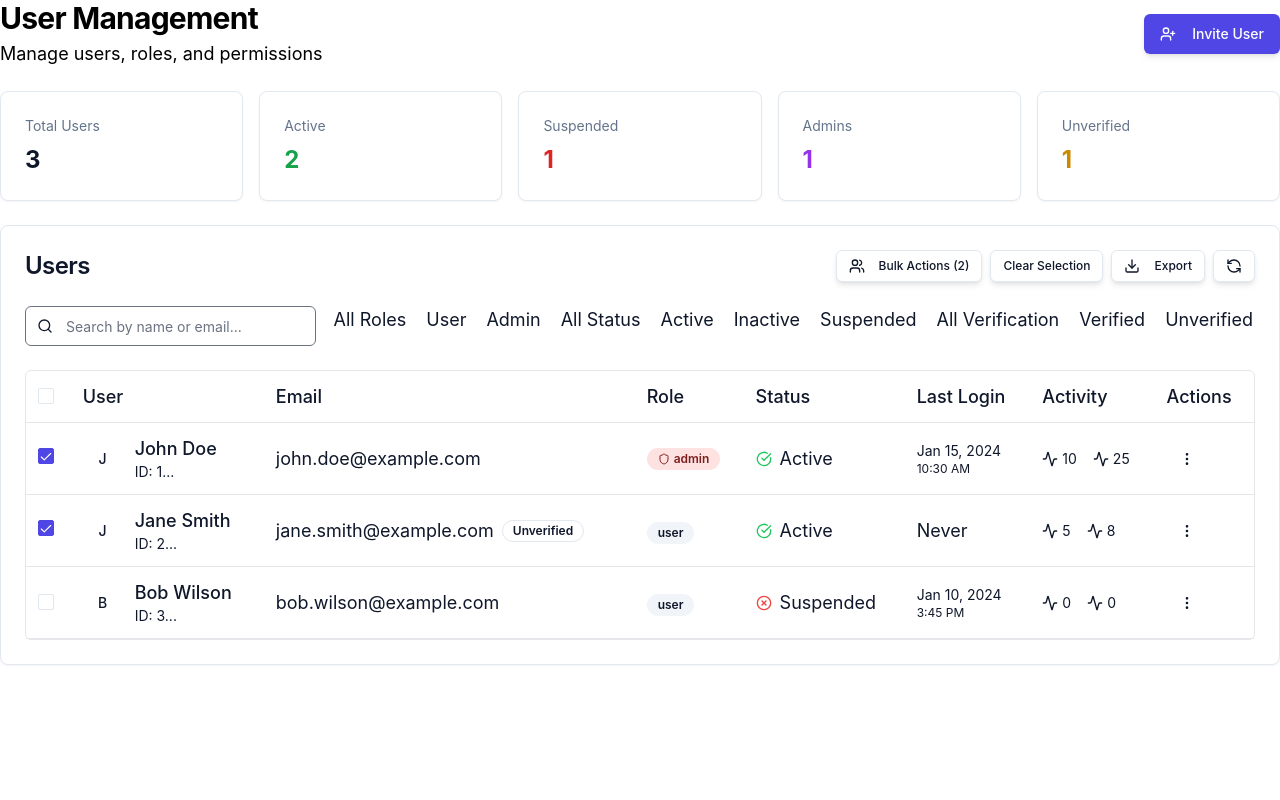
Test: UserListView › Bulk Actions › opens bulk action dialog
The width and height of the screenshot is (1280, 800).
Click the button "Bulk Actions (2)" at (909, 266), box 836,250 -> 982,282
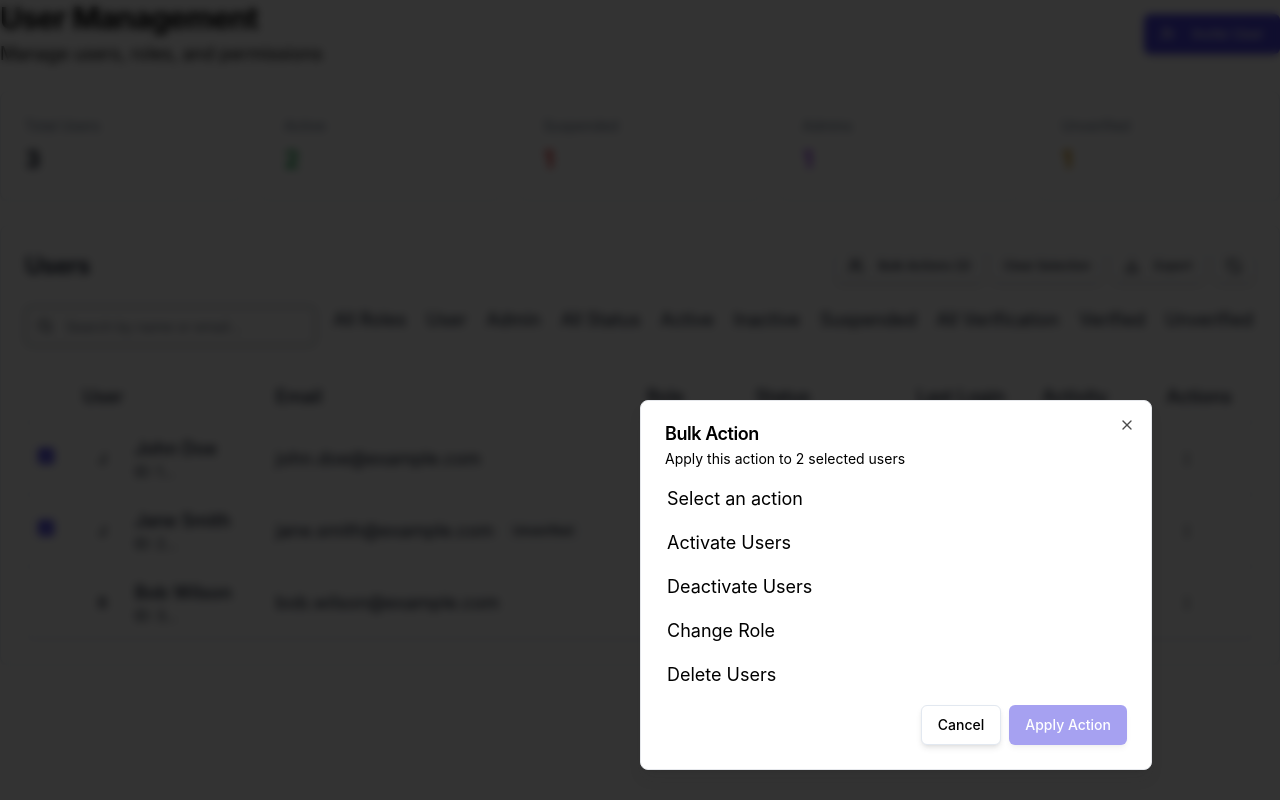
Result: the text "Apply this action to 2 selected users" is shown at 665,450 -> 905,467
